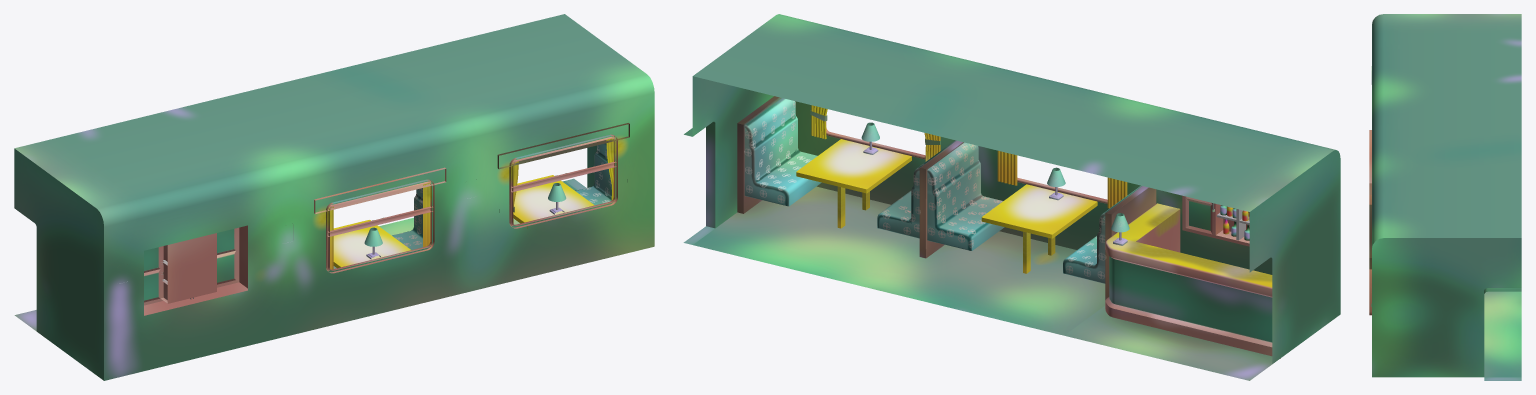
File: Wagon_03.glb
3 views of the same model, side by side, from view 1: azimuth 30°, elevation 25°; view 2: azimuth 150°, elevation 25°; view 3: azimuth 270°, elevation 25° (orthographic). The views are drawn at different scales.
Visible parts, largest first — view 1: Wagon_03; view 2: Wagon_03; view 3: Wagon_03.
Boxes of the visible parts, x1=… form: Wagon_03: x1=14, y1=14, x2=654, y2=380; Wagon_03: x1=683, y1=14, x2=1340, y2=380; Wagon_03: x1=1369, y1=14, x2=1521, y2=380.
Size of the model in its own units: 6.1 by 1.74 by 1.72.
1 material, 1 textured.
